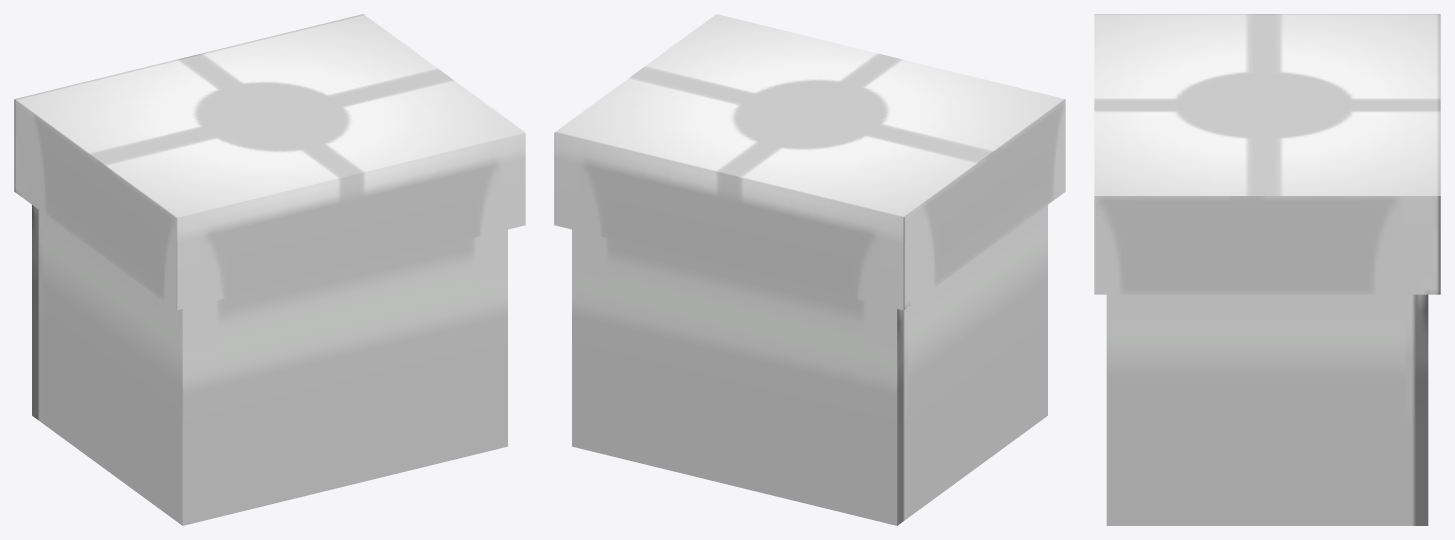
Rendered from Building_Altar_Small.glb.
3 views of the same model, side by side, from view 1: azimuth 30°, elevation 25°; view 2: azimuth 150°, elevation 25°; view 3: azimuth 270°, elevation 25° (orthographic). The views are drawn at different scales.
Visible parts, largest first — view 1: Altar_Small; view 2: Altar_Small; view 3: Altar_Small.
Part boxes in pixels (x1,y1,x2,y2): Altar_Small: (14, 14, 525, 525); Altar_Small: (554, 14, 1065, 525); Altar_Small: (1094, 14, 1440, 525).
Bounding box in the file's own units: 0.87 × 0.75 × 0.7.
1 material, 1 textured.
